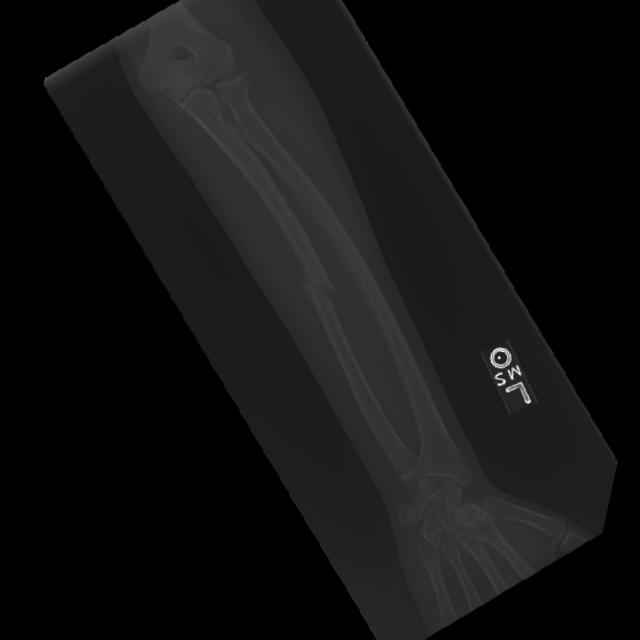forearm fracture: (275, 233, 365, 342)
